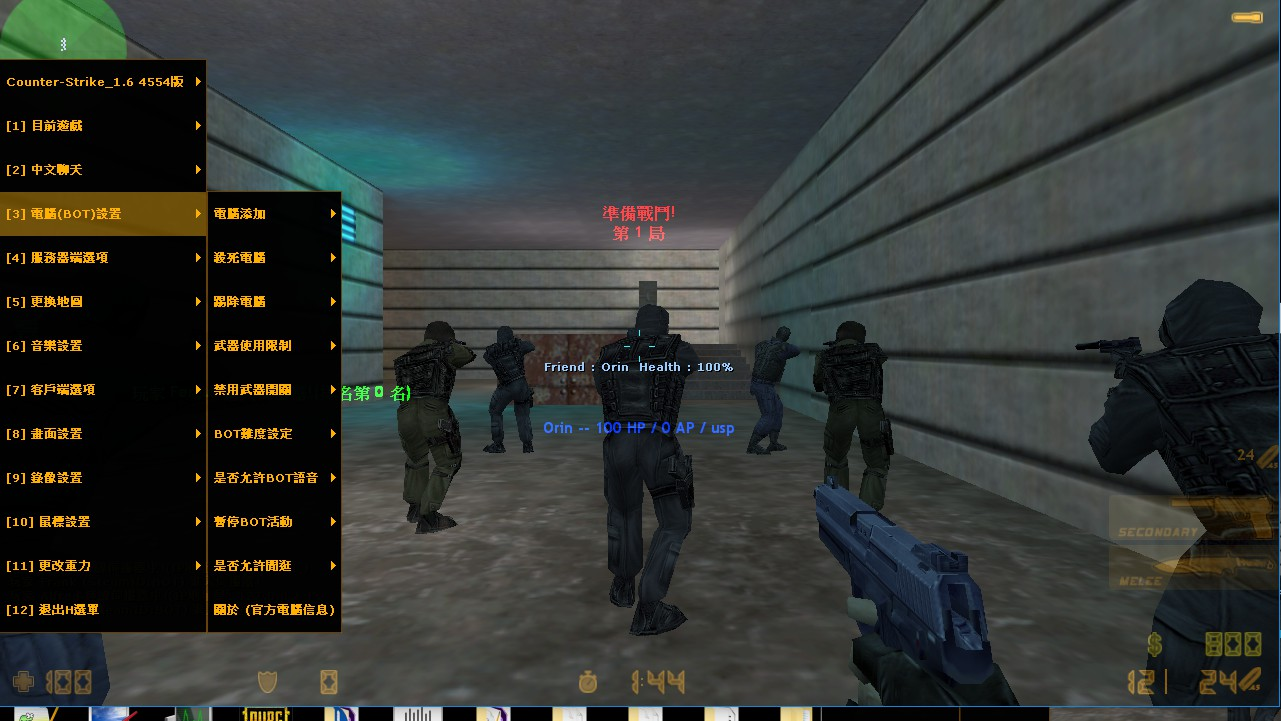person: (387, 317, 474, 540), (480, 322, 542, 459), (743, 327, 794, 451)
